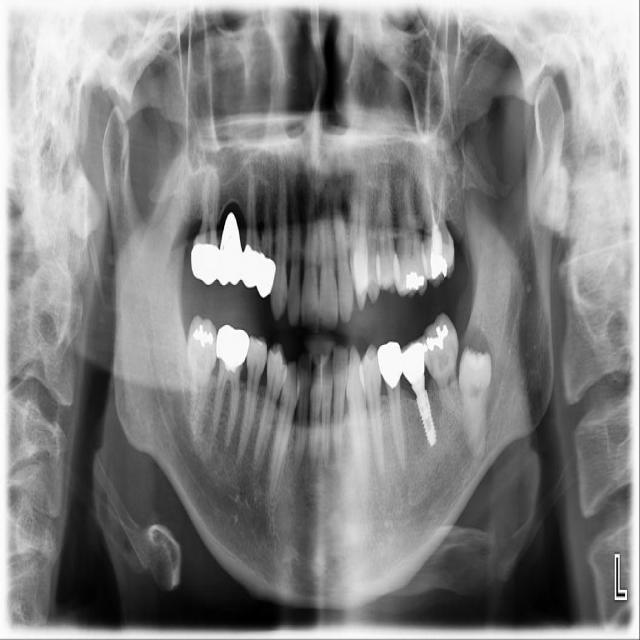52: (179, 212, 290, 324), (419, 310, 460, 382), (211, 322, 253, 374), (395, 334, 435, 386), (392, 243, 429, 297), (187, 314, 219, 372), (422, 229, 455, 285), (375, 338, 407, 391), (244, 334, 269, 378)
73: (604, 574, 612, 584)
BioHorizons Implant: (415, 137, 456, 288)
Biomet 3i Implant: (452, 344, 494, 459)
Blue Sky Bio Implant: (421, 312, 461, 419)
Caries: (189, 155, 220, 284)
Implant: (184, 316, 220, 432)
